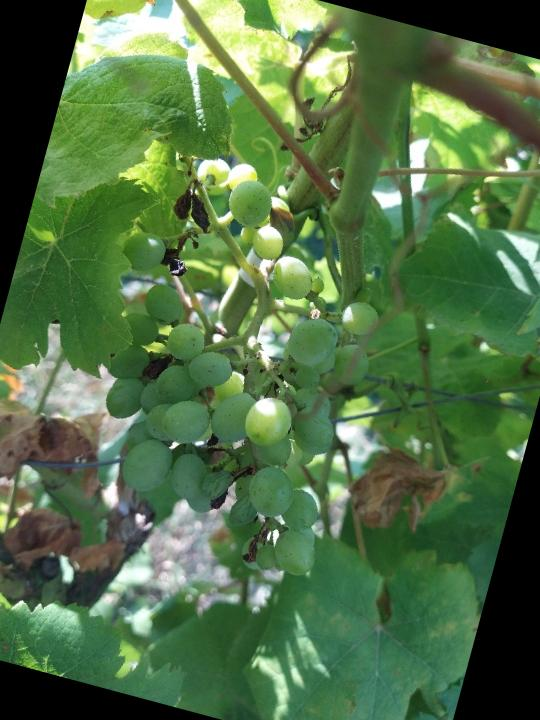grape: (48, 139, 415, 593)
